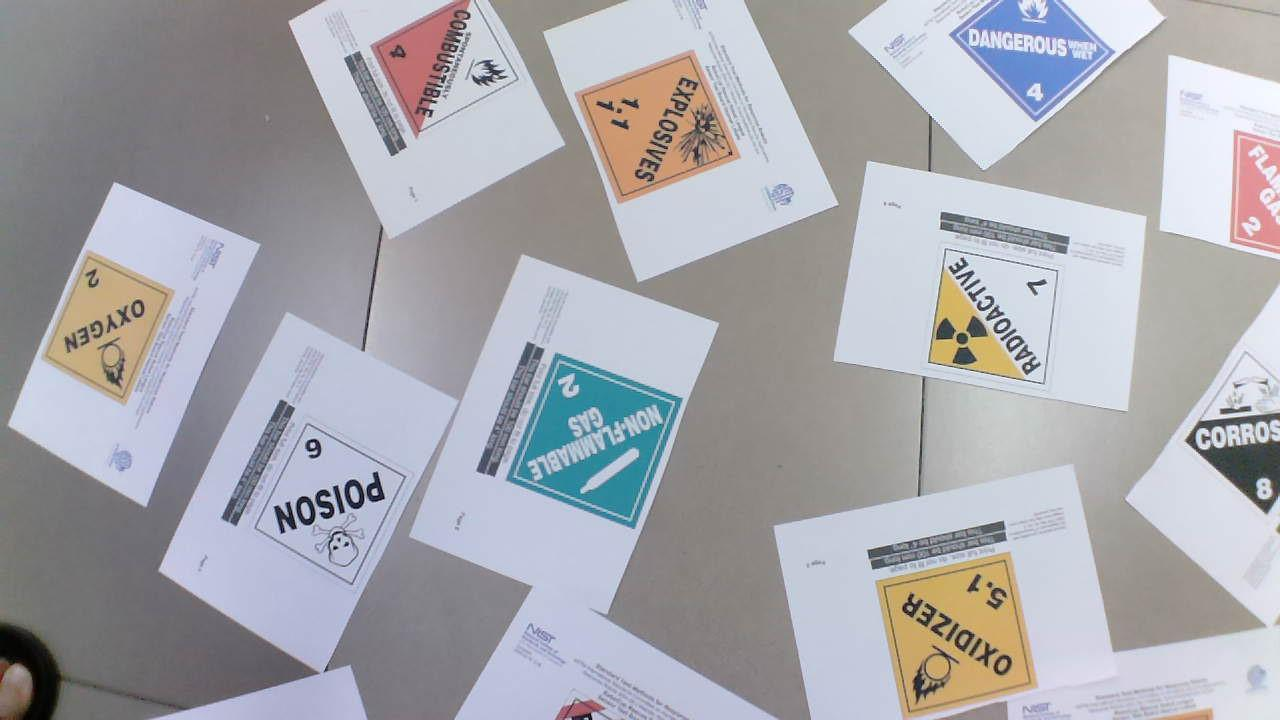corrosive: (1183, 347, 1280, 521)
dangerous-when-wet: (944, 3, 1121, 118)
explosive: (573, 50, 745, 196)
flammable: (1222, 133, 1280, 250)
non-flammable-gas: (503, 348, 686, 534)
oxidizer: (857, 543, 1043, 714), (39, 251, 181, 412)
poison: (249, 418, 408, 583)
radioactive: (914, 247, 1063, 388)
spontaneously-combustible: (356, 1, 529, 129)
